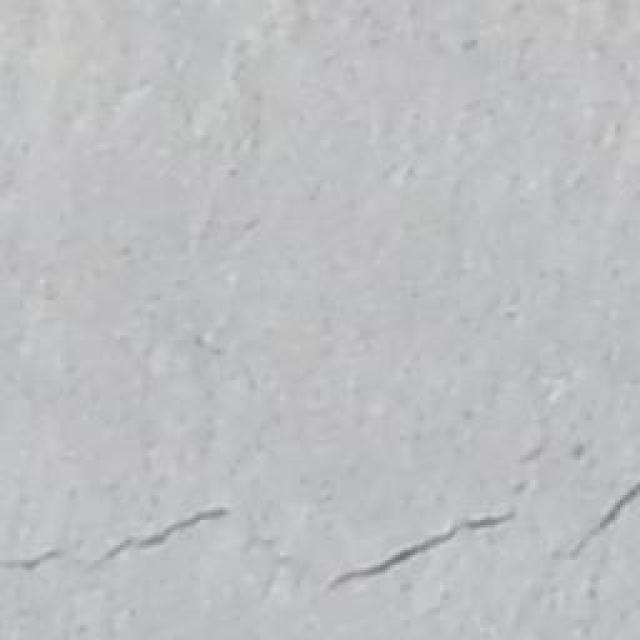concrete-crack: (2, 507, 237, 579), (339, 511, 516, 590), (581, 473, 640, 562)
